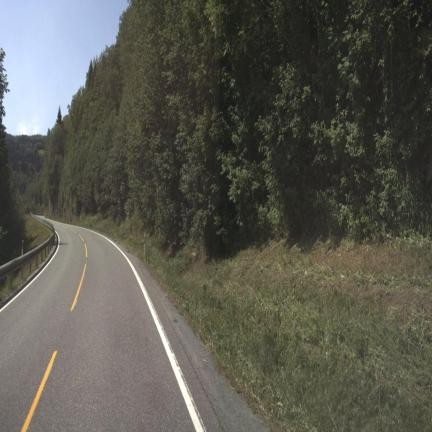Road: (0, 222, 265, 430)
